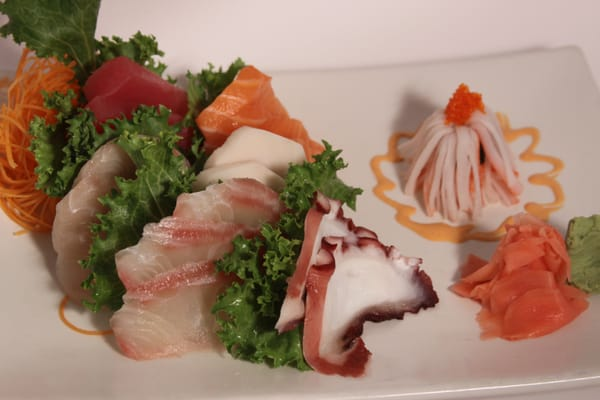curry: (210, 221, 308, 371), (565, 212, 600, 295)
